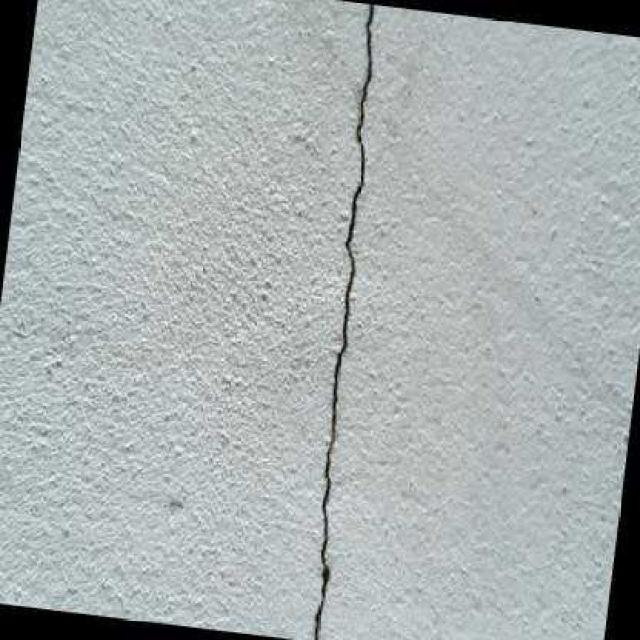D00: (314, 3, 373, 640)
